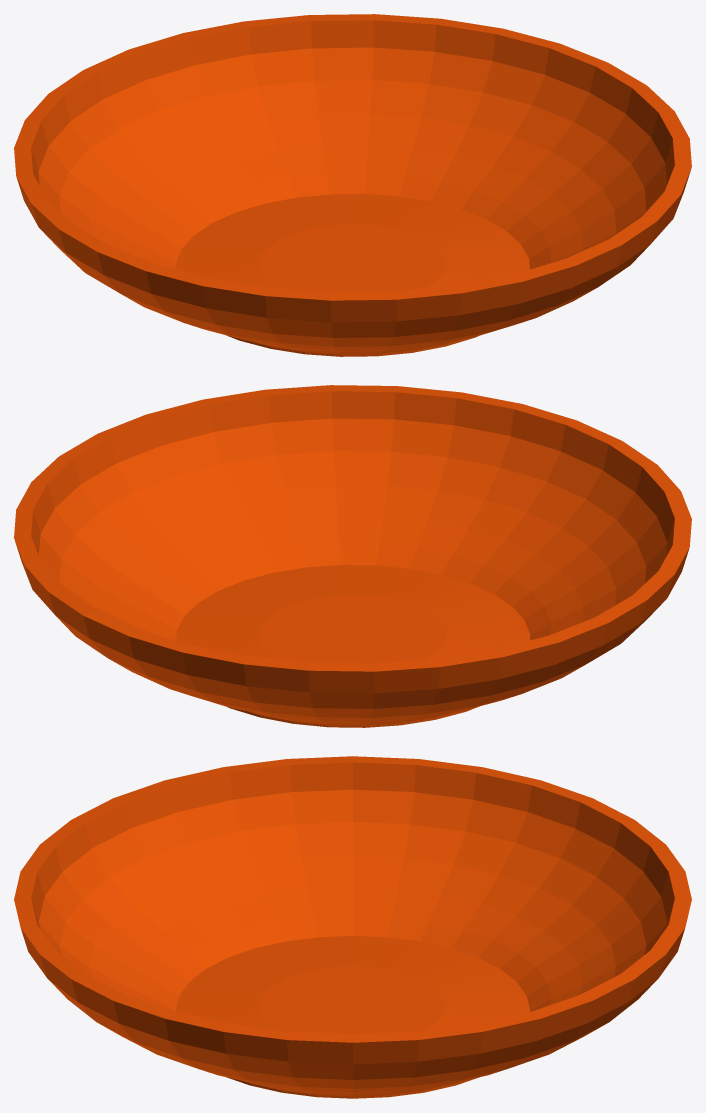
The model's file is bowl.dae.
3 renders of one model, top to bottom at view 1: azimuth 30°, elevation 25°; view 2: azimuth 150°, elevation 25°; view 3: azimuth 270°, elevation 25°, orthographic.
Parts seen in each view (by area): view 1: Cylinder; view 2: Cylinder; view 3: Cylinder.
Part boxes in pixels (<box>): Cylinder: <box>14,14,691,356</box>; Cylinder: <box>14,385,691,727</box>; Cylinder: <box>14,756,691,1098</box>.
Bounding box in the file's own units: 0.5498 × 0.5498 × 0.1091.
